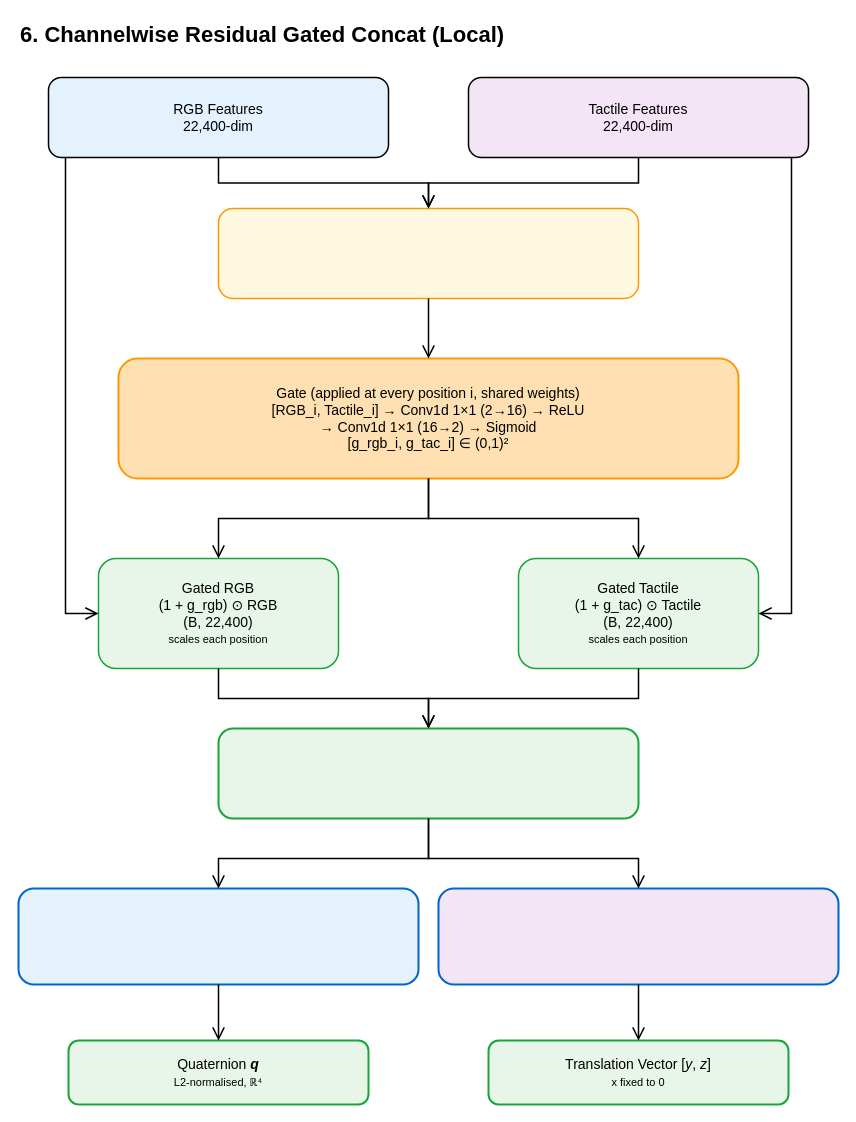
This 856x1122 diagram has some shape labels left out. Each missing label, with the centre of its shape:
"Concatenate Streams [(1 + g_rgb)⊙RGB | (1 + g_tac)⊙Tactile] (B, 44,800-dim)" belongs at pixel 428 773.
"Rotation Head (MLP) 44,800 → 2048 → 1024 → 512 → 4 GELU · Dropout 0.1" belongs at pixel 218 936.
"Stack RGB + Tactile (B, 2, 22,400) with batch size B" belongs at pixel 428 253.
"Translation Head (MLP) 44,800 → 1024 → 256 → 64 → 2 GELU · Dropout 0.1" belongs at pixel 638 936.
